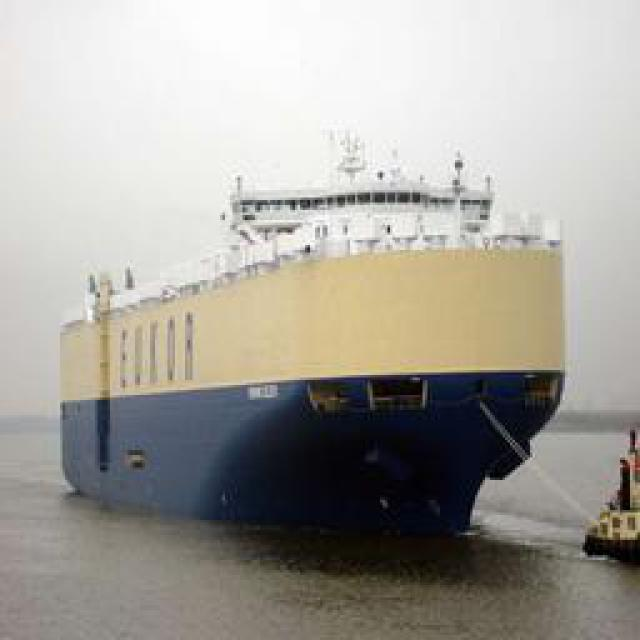Ship: (67, 141, 570, 536)
